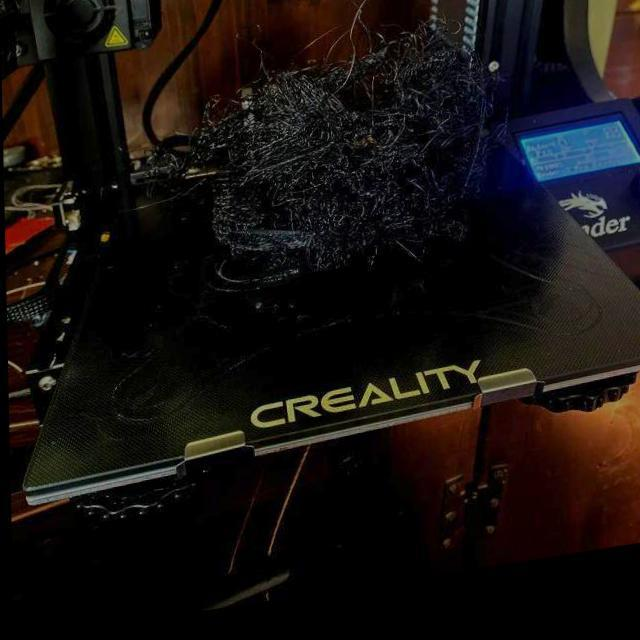spaghetti: (228, 74, 378, 200), (301, 173, 448, 269), (374, 49, 465, 173)
